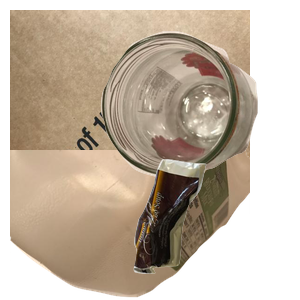cardboard: (10, 10, 250, 190)
glass: (98, 29, 300, 198)
plastic: (10, 150, 250, 300)
trash: (131, 157, 300, 300)
